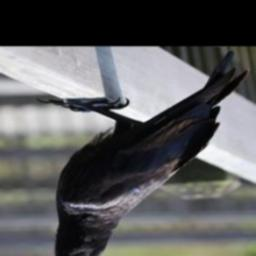Crow: (35, 52, 251, 256)
